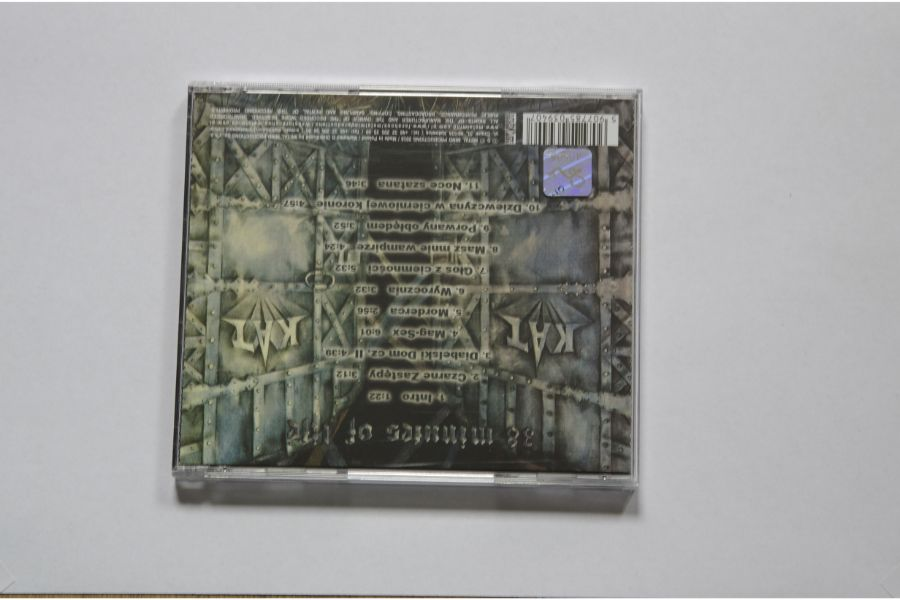album: (171, 78, 641, 494)
